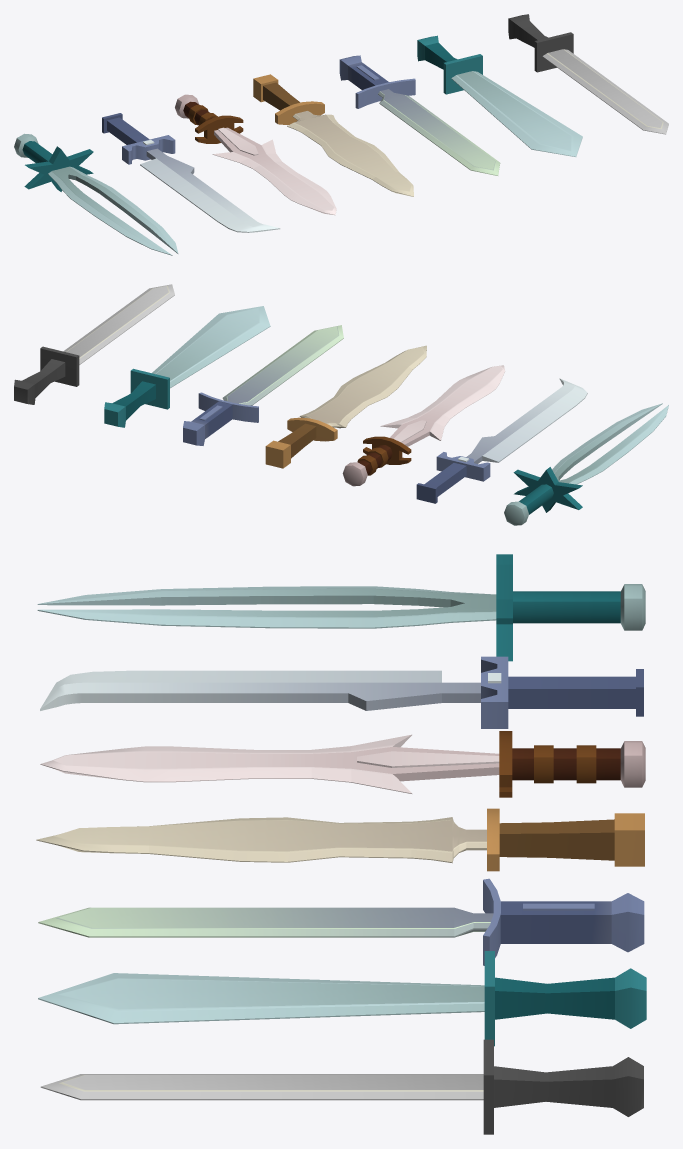
Rendered from swordd1.fbx.
3 views of the same model, one above another, from view 1: azimuth 30°, elevation 25°; view 2: azimuth 150°, elevation 25°; view 3: azimuth 270°, elevation 25° (orthographic). The views are drawn at different scales.
Parts seen in each view (by area): view 1: Sw_2, Sw_4, Sw_7, Sw_5, Sw_3, Sw_6, Sw_1; view 2: Sw_2, Sw_4, Sw_7, Sw_5, Sw_3, Sw_6, Sw_1; view 3: Sw_2, Sw_4, Sw_7, Sw_6, Sw_3, Sw_5, Sw_1.
Boxes of the visible parts, box(x1,y1,x2,y2) form: Sw_2: box(417, 35, 582, 156); Sw_4: box(253, 74, 413, 196); Sw_7: box(14, 133, 178, 255); Sw_5: box(175, 94, 336, 215); Sw_3: box(339, 55, 500, 175); Sw_6: box(102, 113, 280, 232); Sw_1: box(508, 14, 668, 134); Sw_2: box(104, 306, 270, 427); Sw_4: box(265, 345, 426, 468); Sw_7: box(504, 403, 668, 525); Sw_5: box(342, 365, 505, 486); Sw_3: box(183, 325, 343, 445); Sw_6: box(416, 378, 587, 503); Sw_1: box(14, 284, 174, 404); Sw_2: box(38, 951, 646, 1046); Sw_4: box(36, 808, 644, 871); Sw_7: box(37, 554, 645, 661); Sw_6: box(40, 656, 643, 728); Sw_3: box(38, 878, 644, 965); Sw_5: box(40, 731, 645, 797); Sw_1: box(40, 1039, 643, 1134).
Bounding box in the file's own units: 385 × 29.3 × 187.
